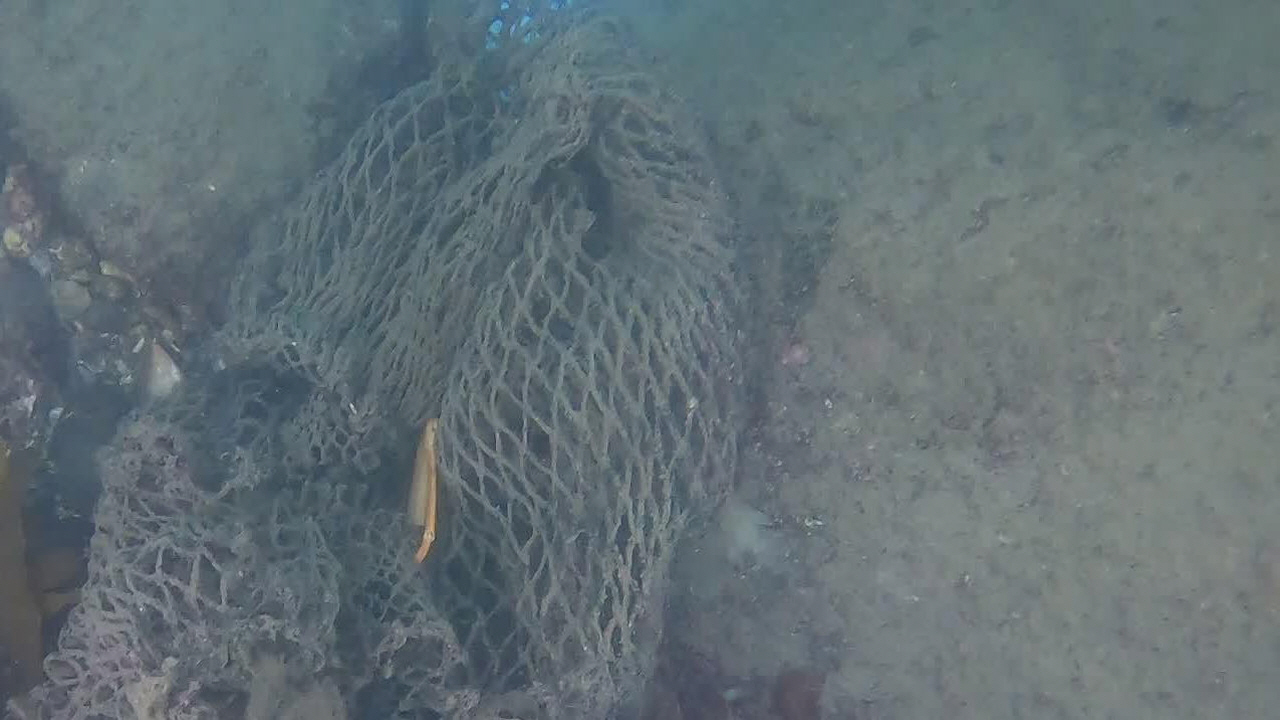fish net: (41, 2, 741, 720)
